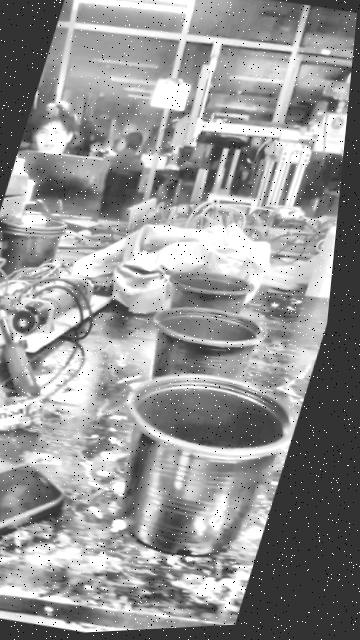pot: (122, 373, 295, 554), (151, 306, 264, 378), (0, 210, 69, 290), (169, 271, 251, 312)
